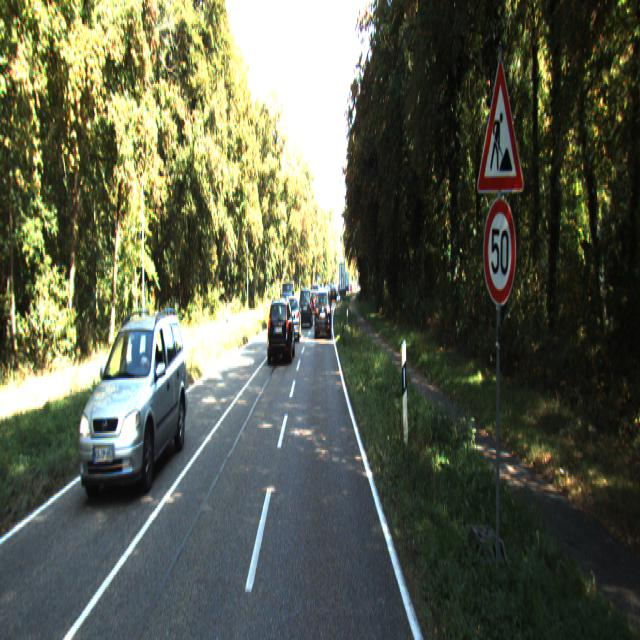Car: (82, 312, 190, 494), (267, 292, 295, 362), (284, 292, 302, 340), (314, 285, 331, 334), (299, 283, 312, 323)
